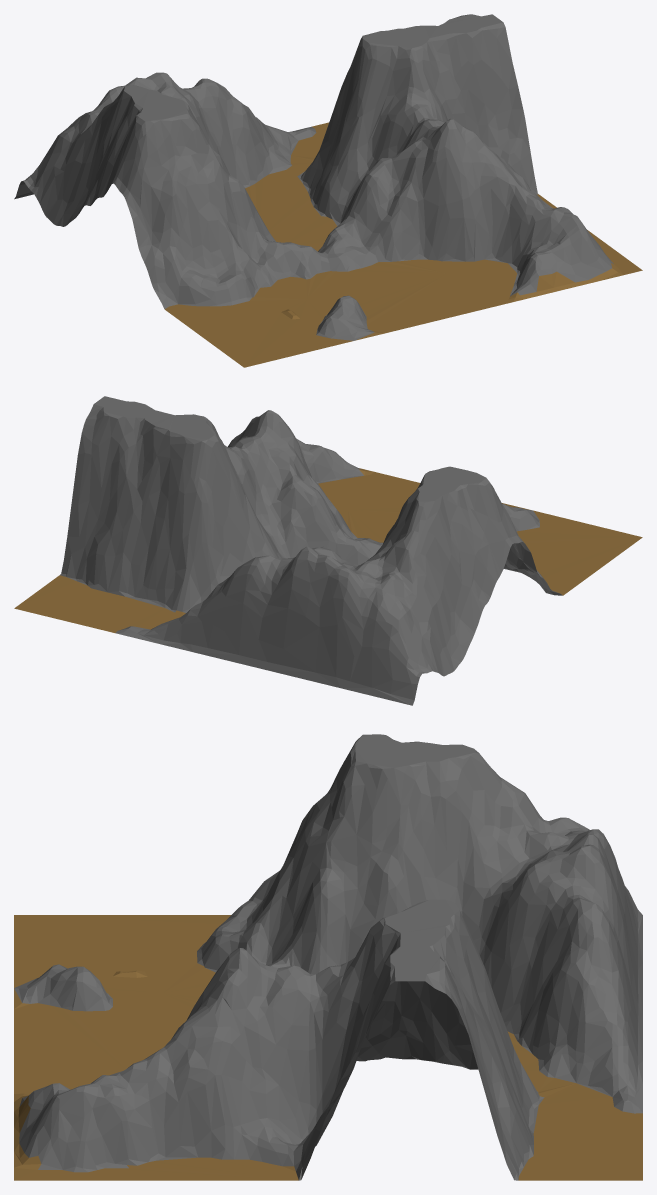
The model's file is Terrain_22.fbx.
3 views of the same model, one above another, from view 1: azimuth 30°, elevation 25°; view 2: azimuth 150°, elevation 25°; view 3: azimuth 270°, elevation 25° (orthographic). The views are drawn at different scales.
Parts seen in each view (by area): view 1: Terrain_22; view 2: Terrain_22; view 3: Terrain_22.
Boxes of the visible parts, <box> form: Terrain_22: <box>14,14,642,367</box>; Terrain_22: <box>14,396,642,705</box>; Terrain_22: <box>14,734,642,1180</box>.
Bounding box in the file's own units: 20012 × 7003 × 20003.
